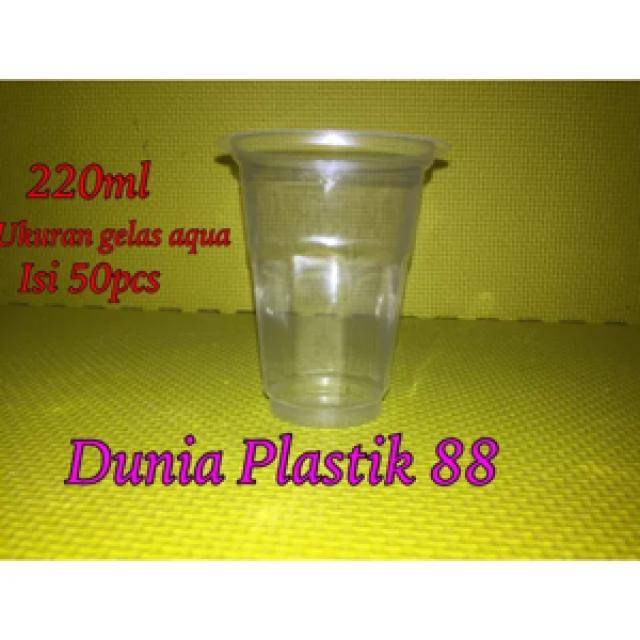plastic cup: (213, 124, 452, 437)
